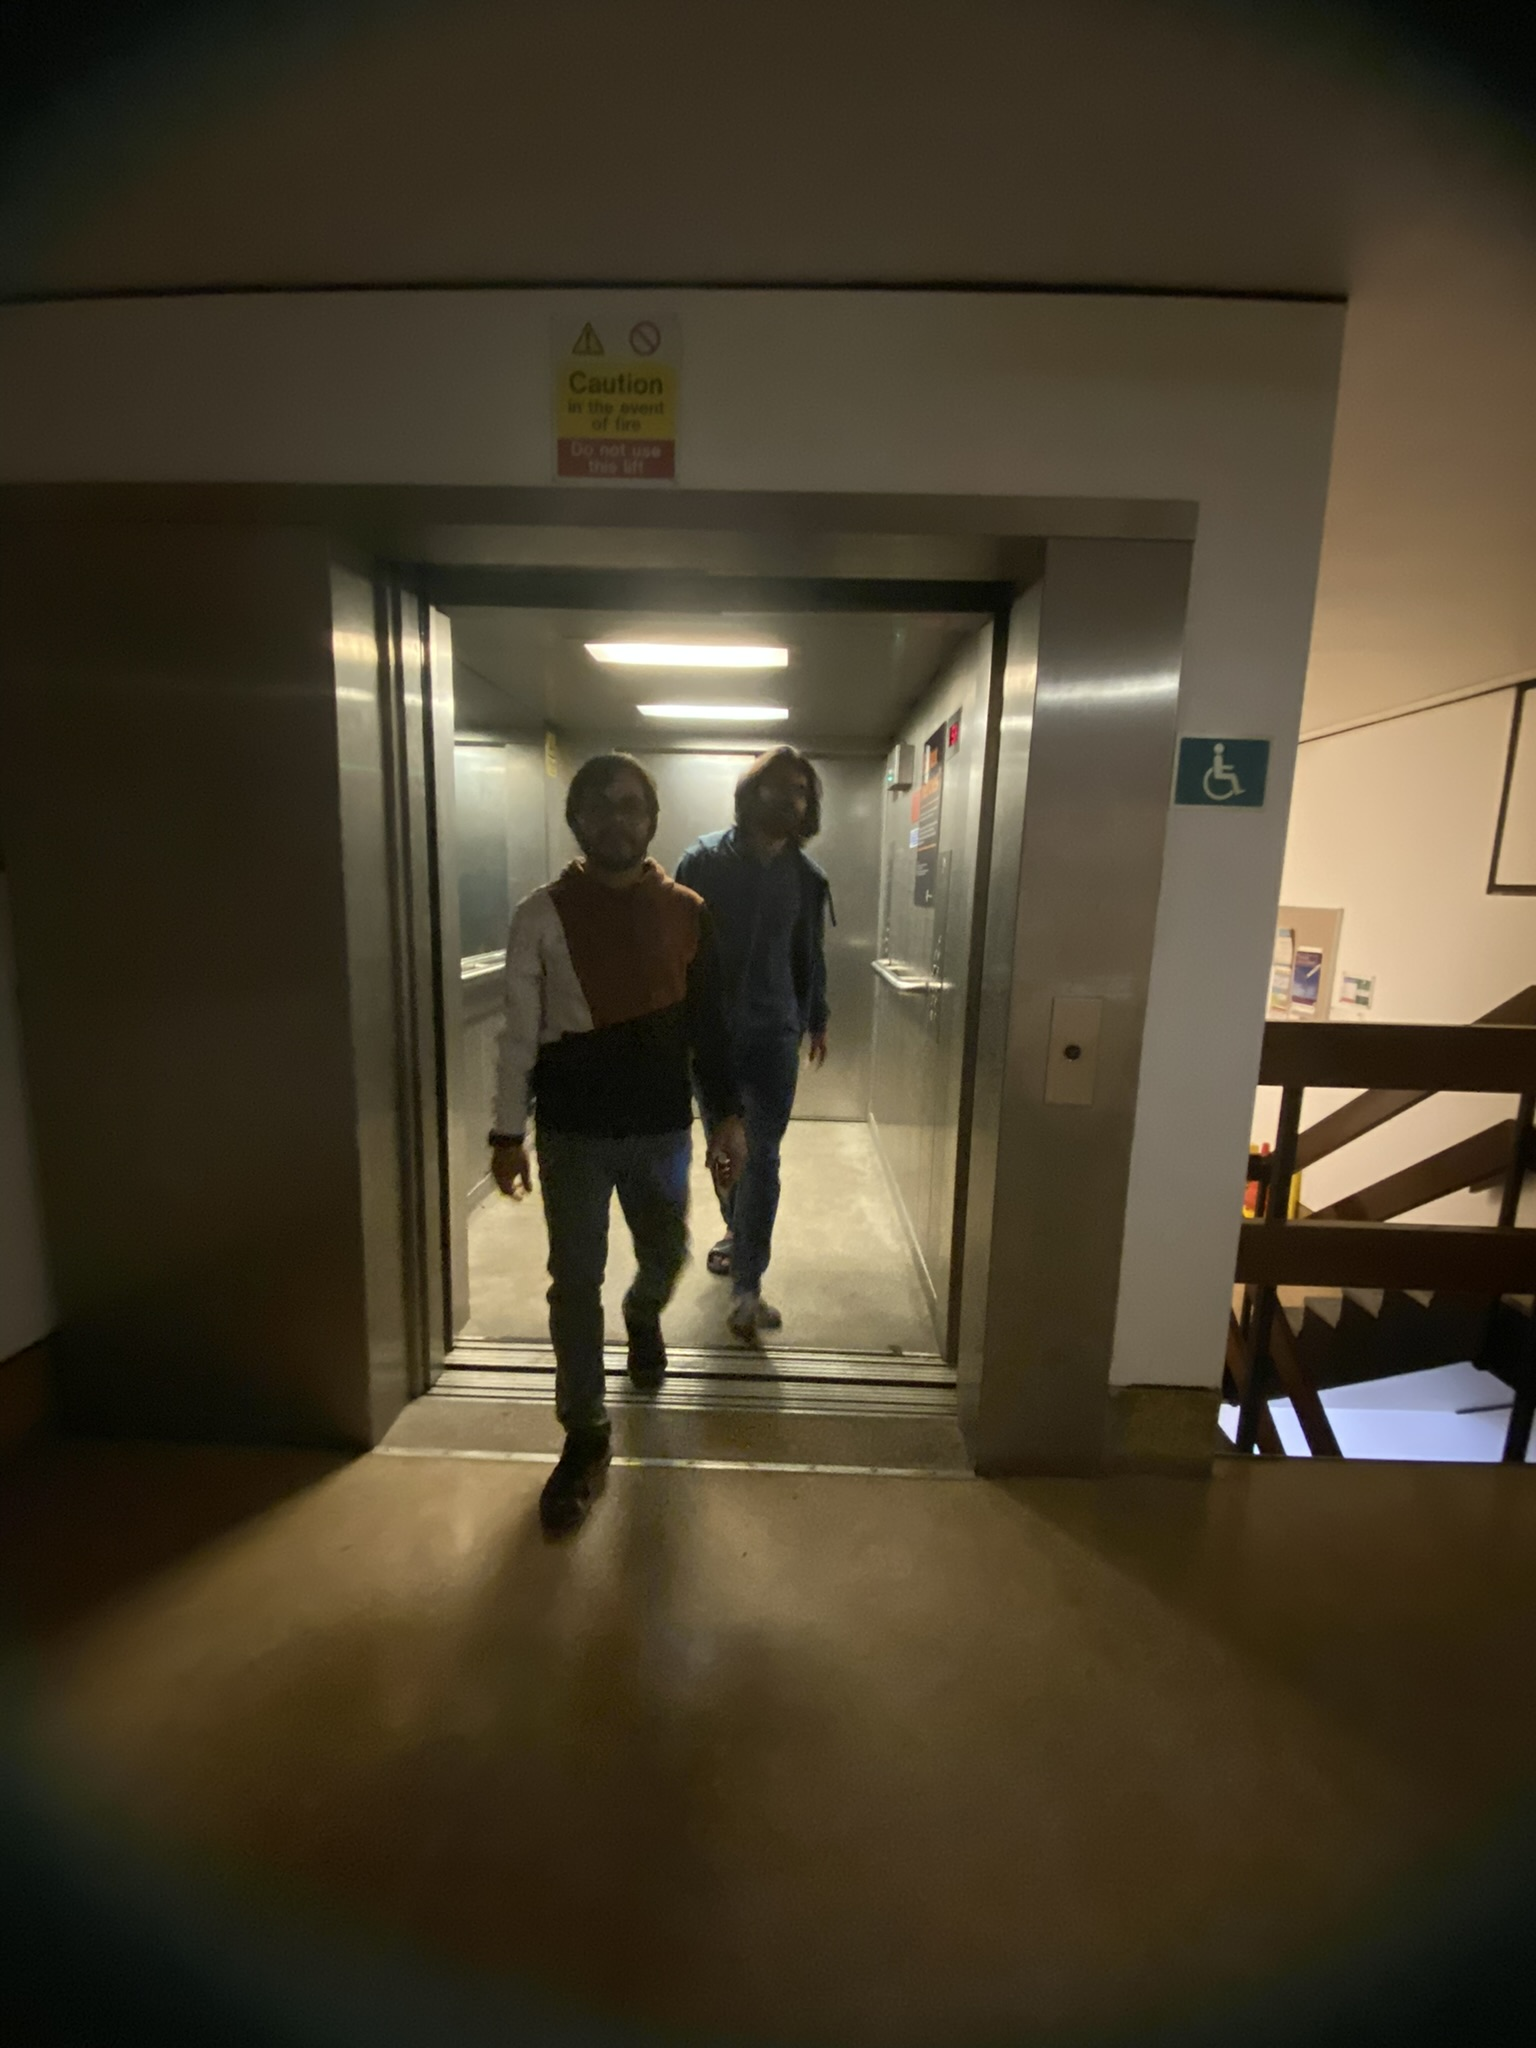lift: (268, 463, 1112, 1596)
